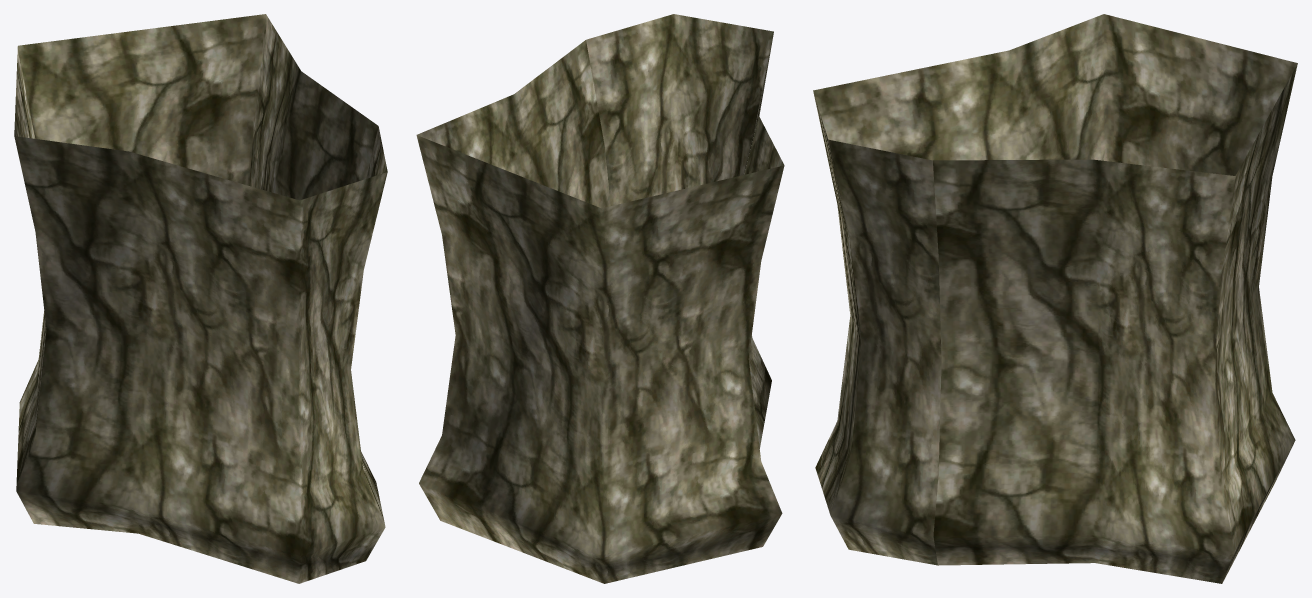
The model's file is CB_NEWPLAYSURFACE_CB_PLAYSURFACE47.fbx.
The picture shows the model from 3 angles, left to right: view 1: azimuth 30°, elevation 25°; view 2: azimuth 150°, elevation 25°; view 3: azimuth 270°, elevation 25°; orthographic projection. The views are drawn at different scales.
Visible parts, largest first — view 1: CB_NEWPLAYSURFACE_CB_PLAYSURFACE47; view 2: CB_NEWPLAYSURFACE_CB_PLAYSURFACE47; view 3: CB_NEWPLAYSURFACE_CB_PLAYSURFACE47.
Boxes of the visible parts, left/top/right/bottom form: CB_NEWPLAYSURFACE_CB_PLAYSURFACE47: left=14, top=14, right=387, bottom=583; CB_NEWPLAYSURFACE_CB_PLAYSURFACE47: left=416, top=14, right=784, bottom=583; CB_NEWPLAYSURFACE_CB_PLAYSURFACE47: left=813, top=14, right=1297, bottom=583.
Bounding box in the file's own units: 56175 × 67435 × 71008.
Materials: 2 (2 with a texture image).
